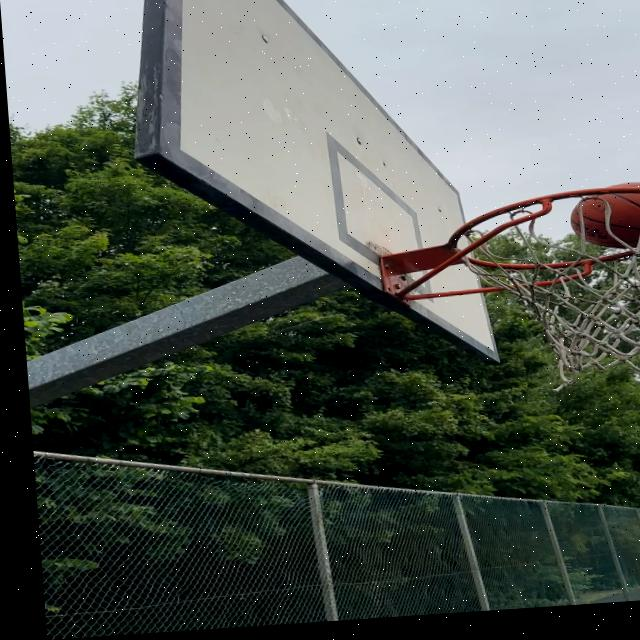rebound_hit: (567, 178, 640, 253)
